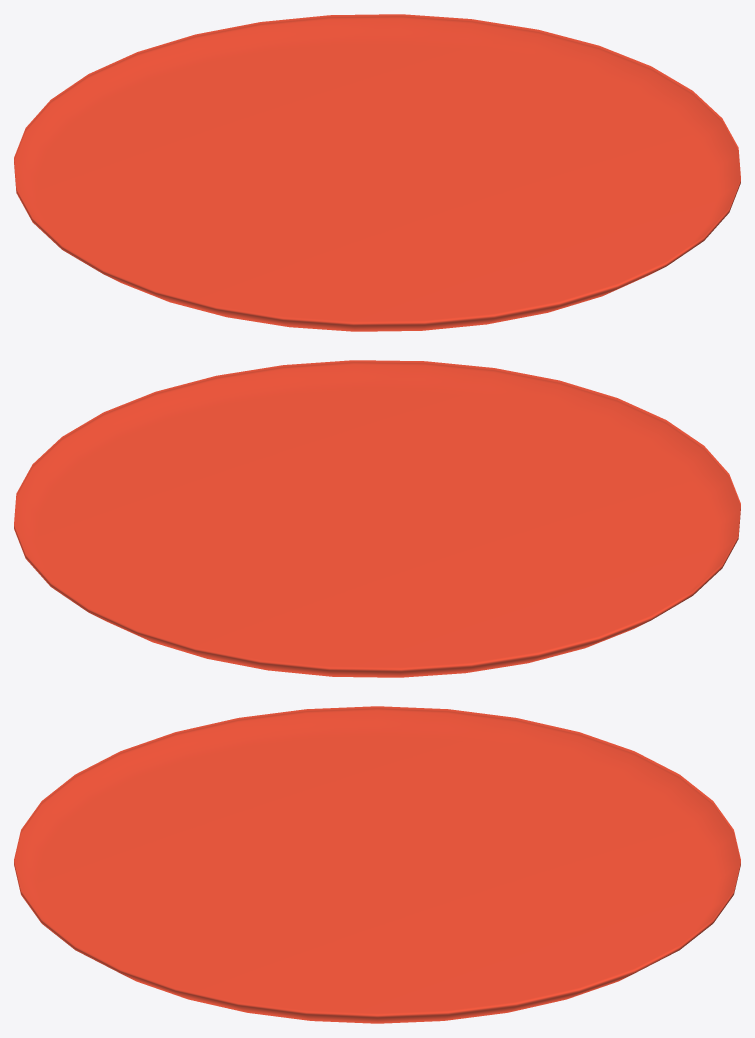
Rendered from soupedWater.fbx.
The picture shows the model from 3 angles, top to bottom: view 1: azimuth 30°, elevation 25°; view 2: azimuth 150°, elevation 25°; view 3: azimuth 270°, elevation 25°; orthographic projection.
Parts seen in each view (by area): view 1: water; view 2: water; view 3: water.
Part boxes in pixels (box(x1,y1,x2,y2)): water: box(14, 14, 740, 331); water: box(14, 360, 740, 677); water: box(14, 706, 740, 1023).
Bounding box in the file's own units: 175 × 5.33 × 175.
